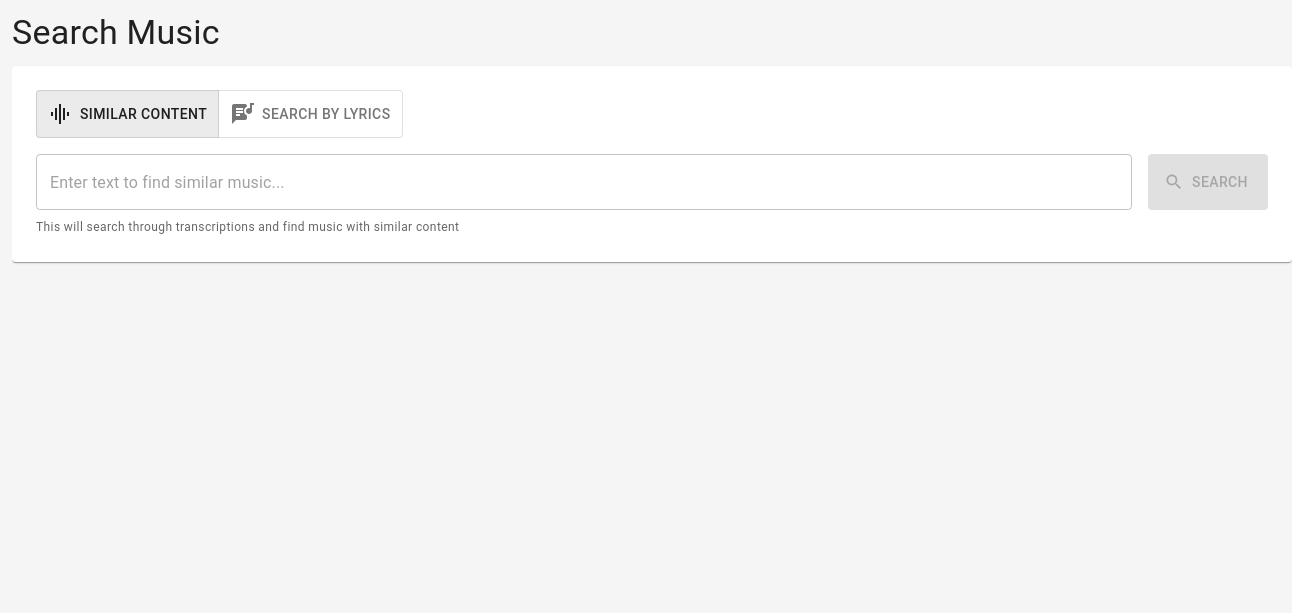
Scenario: SearchPage Component › handles similar content search
The width and height of the screenshot is (1292, 613).
In the field with placeholder "Enter text to find similar music...": [584, 182] box [36, 154, 1132, 210], type "test query"
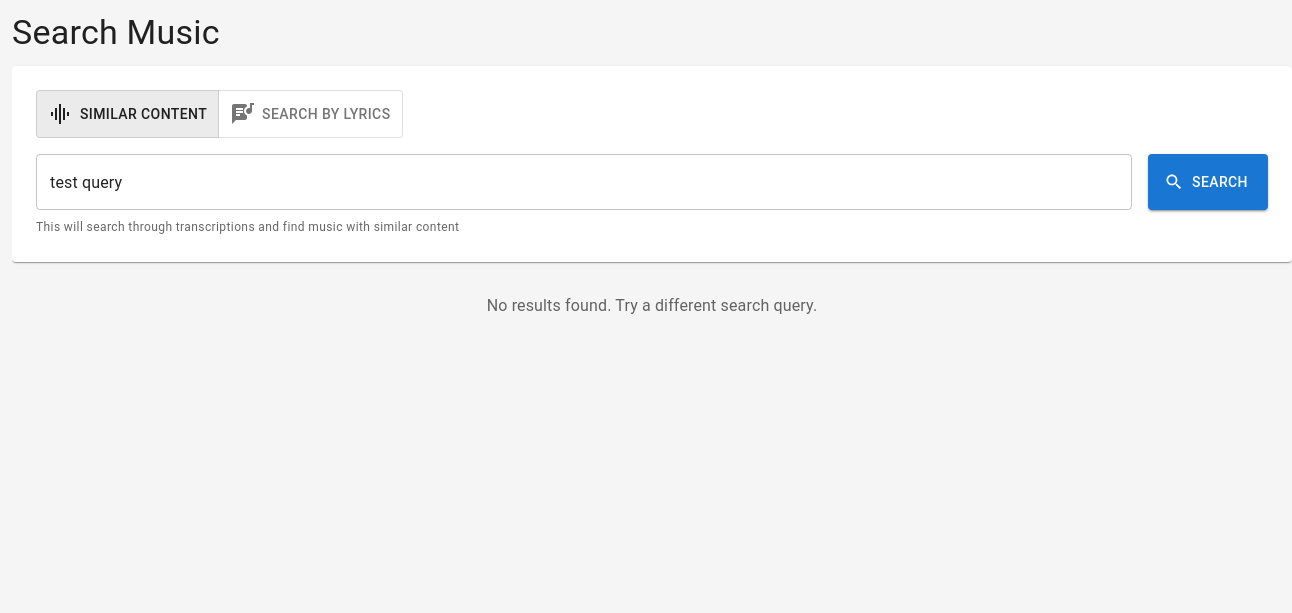
Click the button "Search": [1208, 182] box [1148, 154, 1268, 210]
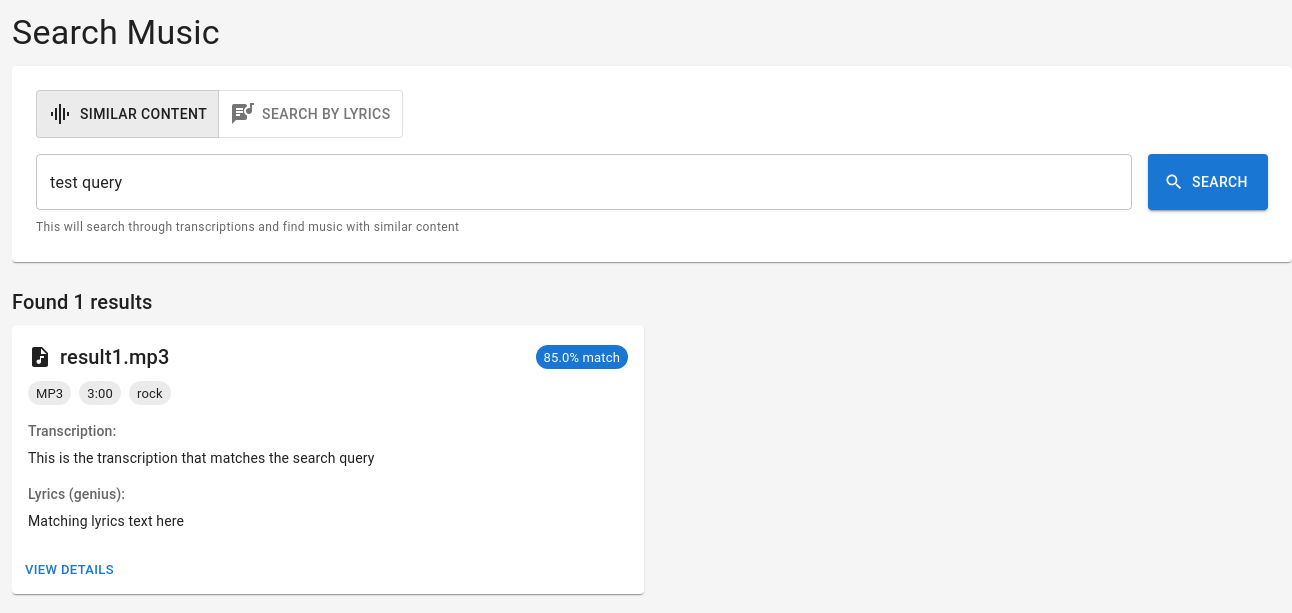
Now the heading "Found 1 results" is shown, box [12, 290, 152, 314]
Now the text "result1.mp3" is shown, box [60, 345, 170, 369]
Now the text "85.0% match" is shown, box [544, 350, 620, 364]
